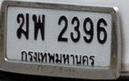txt04: (15, 12, 30, 40)
txt25: (31, 13, 46, 41)
